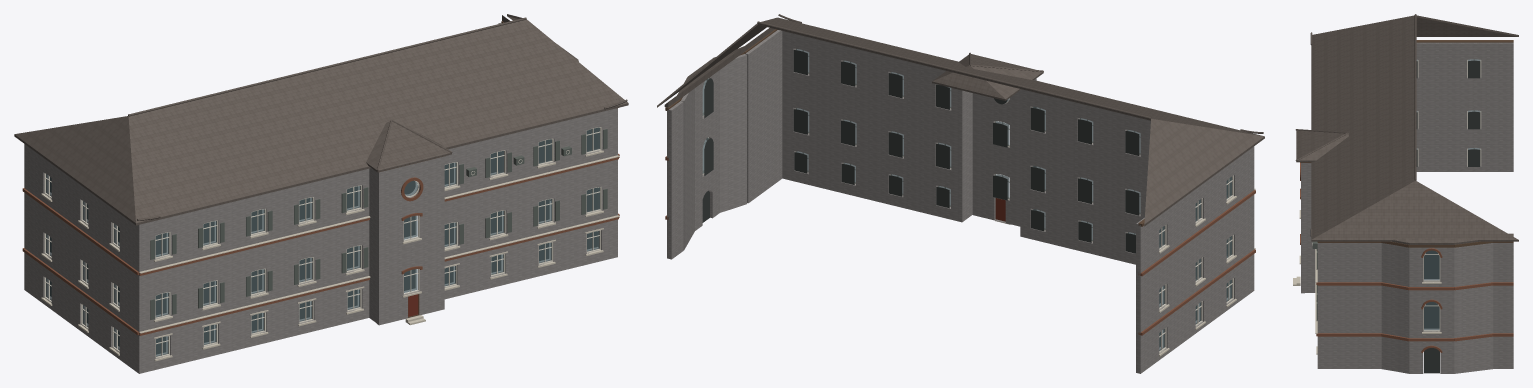
Rendered from changning-st-johns-mann-hall-river-front-lod.glb.
3 views of the same model, side by side, from view 1: azimuth 30°, elevation 25°; view 2: azimuth 150°, elevation 25°; view 3: azimuth 270°, elevation 25° (orthographic). The views are drawn at different scales.
Visible parts, largest first — view 1: 圣约翰大学思孟堂43号楼临河窗墙; view 2: 圣约翰大学思孟堂43号楼临河窗墙; view 3: 圣约翰大学思孟堂43号楼临河窗墙.
Boxes of the visible parts, x1,y1,x2,y2 form: 圣约翰大学思孟堂43号楼临河窗墙: [14, 14, 628, 373]; 圣约翰大学思孟堂43号楼临河窗墙: [657, 14, 1264, 373]; 圣约翰大学思孟堂43号楼临河窗墙: [1293, 14, 1518, 373].
Bounding box in the file's own units: 39.29 × 15.72 × 18.05.
10 materials, 2 textured.
